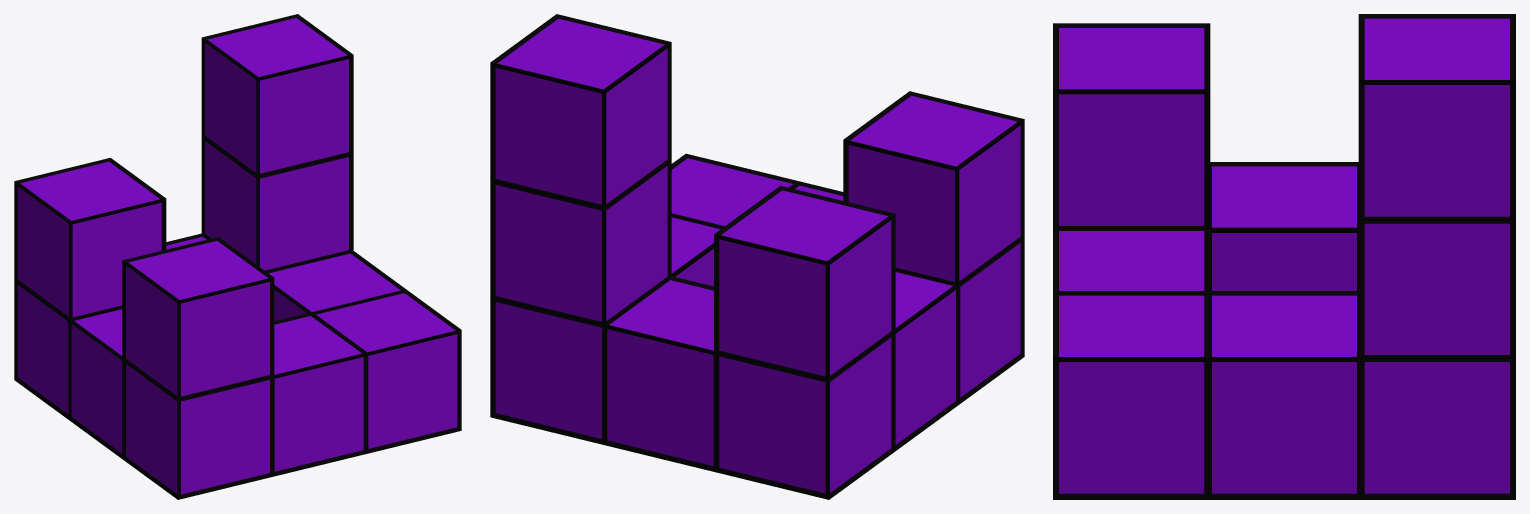
The picture shows the model from 3 angles, left to right: view 1: azimuth 30°, elevation 25°; view 2: azimuth 150°, elevation 25°; view 3: azimuth 270°, elevation 25°; orthographic projection. The views are drawn at different scales.
Parts seen in each view (by area): view 1: b3:Mesh; view 2: b3:Mesh; view 3: b3:Mesh.
Part boxes in pixels (<box>): b3:Mesh: <box>14,14,461,499</box>; b3:Mesh: <box>490,14,1024,499</box>; b3:Mesh: <box>1053,14,1515,499</box>.
Bounding box in the file's own units: 6.06 × 6.06 × 6.06.
